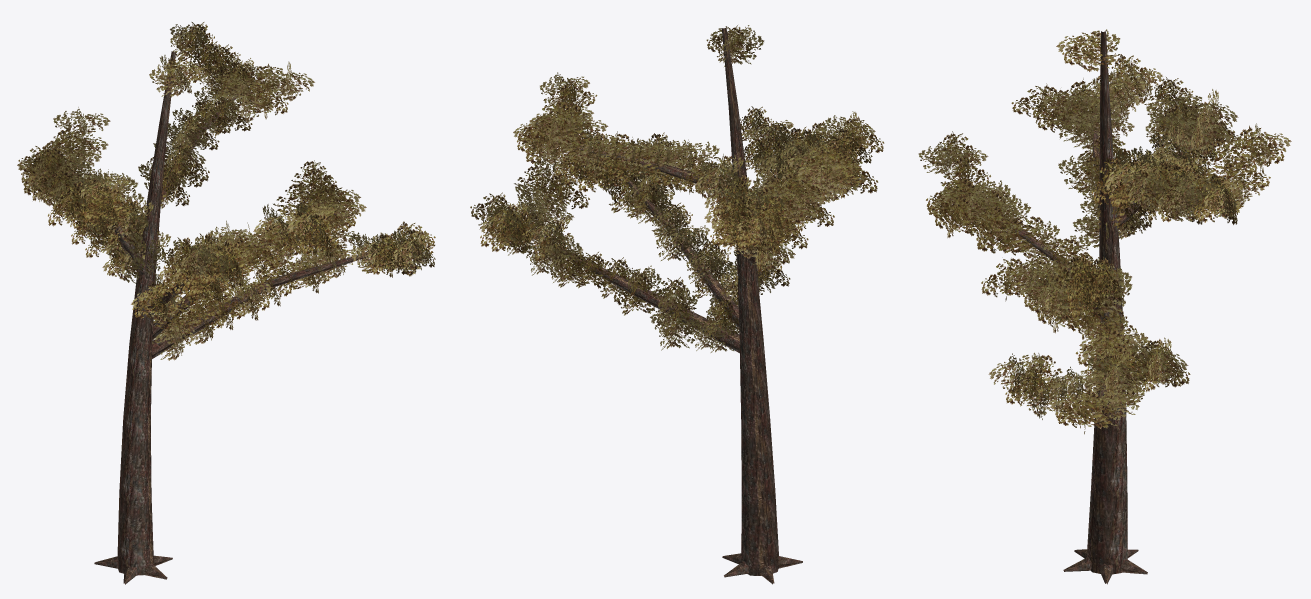
Rendered from tree_3d_04_golden_beige_lod1.glb.
3 renders of one model, left to right at view 1: azimuth 30°, elevation 25°; view 2: azimuth 150°, elevation 25°; view 3: azimuth 270°, elevation 25°, orthographic. The views are drawn at different scales.
Parts seen in each view (by area): view 1: foliage_cards, wood_geometry; view 2: foliage_cards, wood_geometry; view 3: foliage_cards, wood_geometry.
Part boxes in pixels (x1,y1,x2,y2): foliage_cards: [17, 22, 435, 360]; wood_geometry: [78, 51, 368, 584]; foliage_cards: [470, 25, 884, 352]; wood_geometry: [504, 27, 829, 584]; foliage_cards: [918, 29, 1291, 434]; wood_geometry: [1002, 31, 1216, 584].
Bounding box in the file's own units: 9.37 × 11.58 × 7.14.
Materials: 2 (2 with a texture image).
